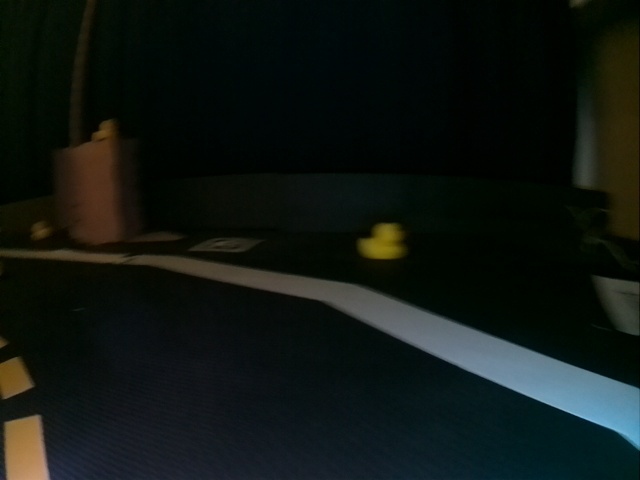Duckie: (358, 223, 405, 259), (92, 120, 115, 140), (31, 221, 50, 238)
QR code: (191, 238, 263, 251)
